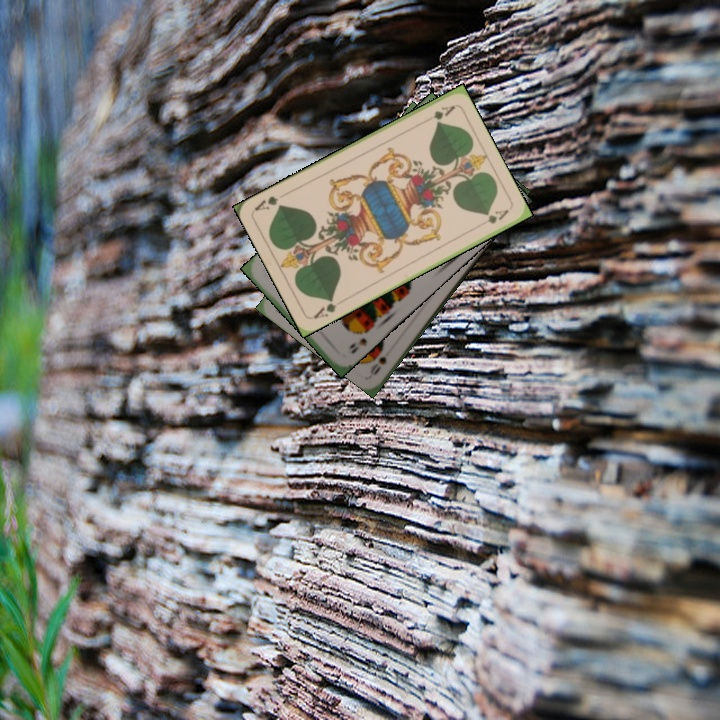GA: (309, 294, 346, 322), (419, 101, 457, 126)
S9: (346, 324, 372, 356)
SO: (366, 352, 389, 378)
